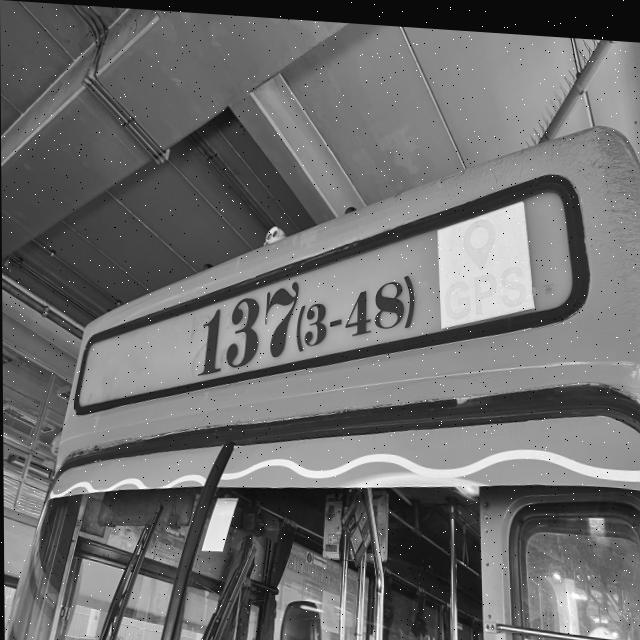BMTA-bus: (4, 86, 640, 640)
Bus-Line-Number: (186, 213, 434, 394)
